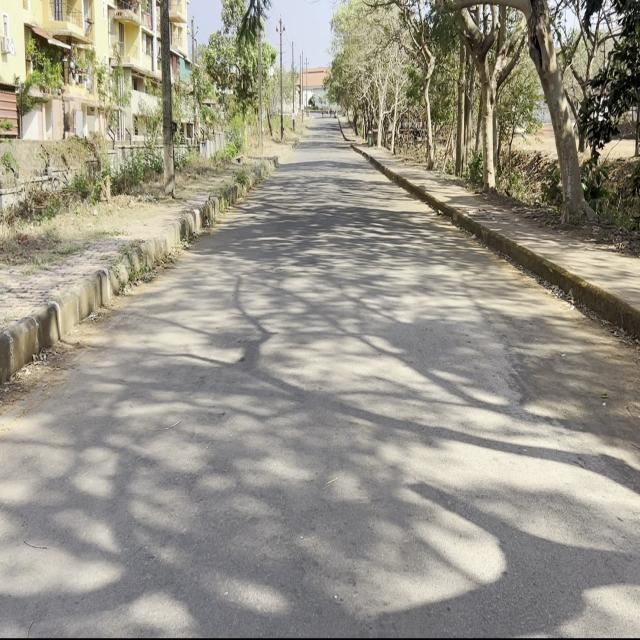Road: (2, 119, 636, 631)
